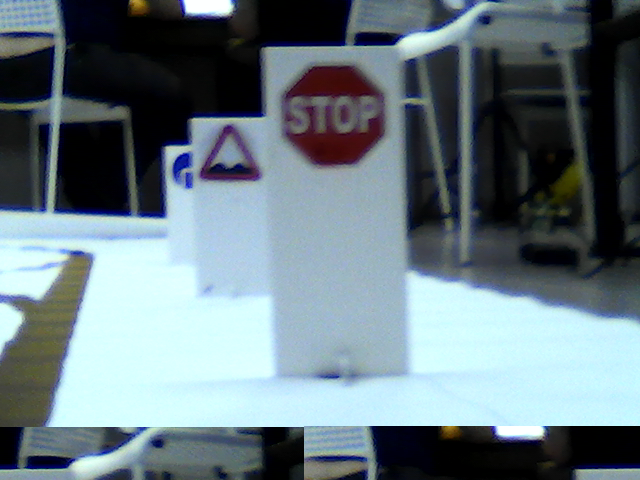Nerov: (198, 125, 265, 183)
Stop: (284, 66, 386, 170)
